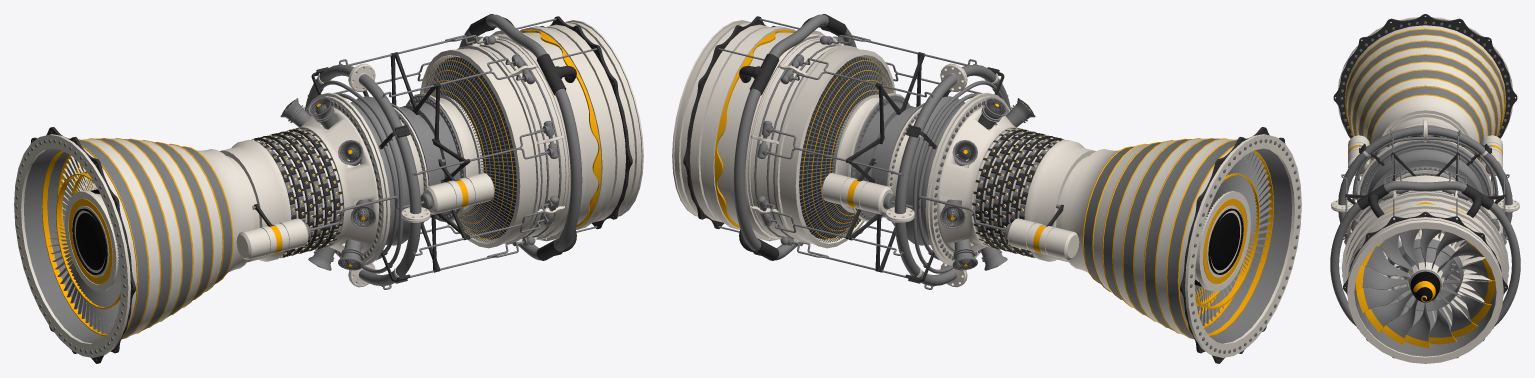
The model's file is Turbine.glb.
3 renders of one model, left to right at view 1: azimuth 30°, elevation 25°; view 2: azimuth 150°, elevation 25°; view 3: azimuth 270°, elevation 25°, orthographic. The views are drawn at different scales.
Parts seen in each view (by area): view 1: Object_9, Object_18, Object_17, Object_12, Object_5, Object_4, Object_16, Object_8, Object_13, Object_15, Object_3, Object_2 (+6 smaller); view 2: Object_9, Object_18, Object_17, Object_12, Object_5, Object_4, Object_16, Object_8, Object_13, Object_15, Object_3, Object_2 (+5 smaller); view 3: Object_9, Object_18, Object_17, Object_15, Object_5, Object_12, Object_4, Object_8, Object_2, Object_3, Object_20, Object_14.
Part boxes in pixels (x1,y1,x2,y2): Object_9: [14, 20, 643, 357]; Object_18: [24, 97, 375, 343]; Object_17: [304, 14, 582, 289]; Object_12: [30, 14, 632, 363]; Object_5: [42, 29, 601, 338]; Object_4: [350, 95, 465, 246]; Object_16: [252, 18, 597, 242]; Object_8: [60, 156, 494, 323]; Object_13: [252, 128, 343, 257]; Object_15: [49, 217, 121, 334]; Object_3: [72, 189, 107, 274]; Object_2: [317, 36, 564, 287]; Object_9: [672, 20, 1301, 357]; Object_18: [940, 97, 1291, 343]; Object_17: [733, 14, 1011, 289]; Object_12: [683, 14, 1285, 363]; Object_5: [714, 29, 1273, 338]; Object_4: [850, 95, 965, 246]; Object_16: [718, 18, 1063, 242]; Object_8: [821, 173, 1247, 326]; Object_13: [972, 128, 1063, 257]; Object_15: [1202, 151, 1271, 285]; Object_3: [1194, 208, 1243, 286]; Object_2: [751, 36, 998, 287]; Object_9: [1338, 16, 1512, 363]; Object_18: [1345, 29, 1505, 356]; Object_17: [1330, 126, 1520, 326]; Object_15: [1362, 228, 1488, 341]; Object_5: [1344, 28, 1506, 348]; Object_12: [1333, 14, 1517, 358]; Object_4: [1360, 140, 1490, 311]; Object_8: [1348, 135, 1502, 325]; Object_2: [1331, 119, 1519, 233]; Object_3: [1410, 271, 1440, 302]; Object_20: [1340, 21, 1510, 196]; Object_14: [1344, 190, 1506, 244].
Size of the model in its own units: 4.01 by 1.57 by 1.59.
